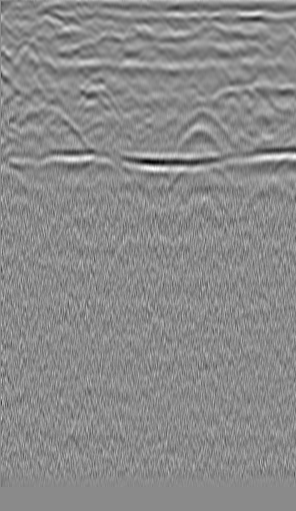오수: (11, 38, 31, 58)
